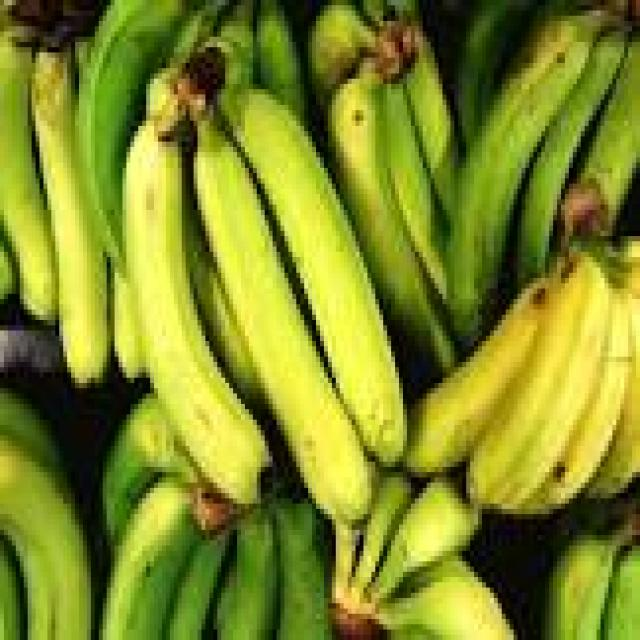banana: (194, 121, 371, 524), (222, 90, 406, 466), (123, 121, 268, 503), (447, 11, 612, 346), (328, 69, 454, 372), (467, 252, 612, 514), (76, 0, 189, 267), (403, 279, 549, 477), (514, 32, 628, 283), (32, 48, 110, 388), (526, 289, 632, 514), (0, 436, 90, 639), (0, 27, 59, 319), (99, 478, 201, 639), (186, 205, 264, 409), (380, 79, 446, 299), (103, 394, 197, 545), (368, 478, 481, 603), (581, 32, 639, 230), (455, 0, 533, 146), (380, 557, 513, 639), (403, 27, 458, 225), (589, 294, 639, 498), (542, 530, 620, 639), (348, 473, 414, 598), (273, 499, 331, 639), (218, 509, 280, 639), (166, 530, 233, 639), (309, 0, 375, 110), (0, 389, 67, 487), (257, 0, 308, 120), (202, 0, 256, 83), (111, 268, 146, 382), (170, 0, 229, 62), (601, 546, 639, 639), (0, 541, 23, 639), (332, 520, 359, 603), (360, 0, 422, 26), (0, 237, 19, 304), (388, 625, 434, 639)
